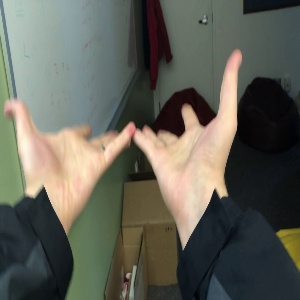hand: (135, 50, 242, 213), (5, 99, 135, 205)
